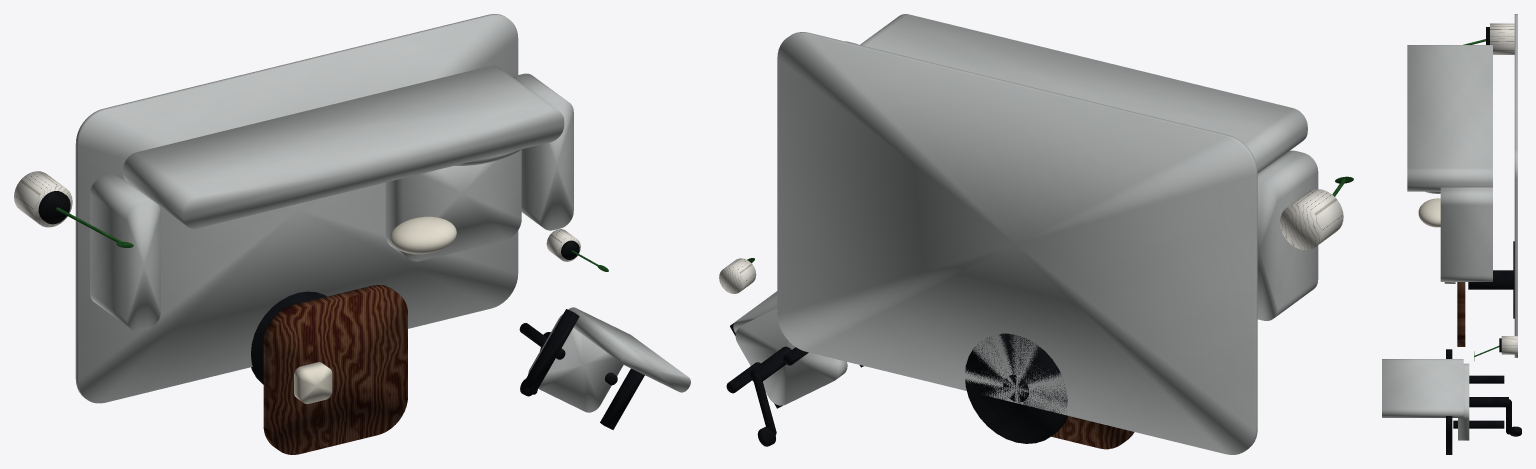
Rendered from HERO_LOUNGE_BLUE_AREA_V4_001.glb.
3 renders of one model, left to right at view 1: azimuth 30°, elevation 25°; view 2: azimuth 150°, elevation 25°; view 3: azimuth 270°, elevation 25°, orthographic. The views are drawn at different scales.
Parts seen in each view (by area): view 1: blue_rug, sofa_back, coffee_table_top, sofa_arm_l, sofa_seat, sofa_arm_r, round_lounge_chair_seat, round_lounge_chair_back, throw_pillow, lounge_plant_pot, round_lounge_chair_arm_l, cup_on_lounge_table (+3 smaller); view 2: blue_rug, sofa_back, sofa_arm_l, coffee_table_base, round_lounge_chair_seat, lounge_plant_pot, coffee_table_top, lounge_small_plant_pot; view 3: sofa_back, sofa_arm_r, round_lounge_chair_back, blue_rug, lounge_plant_pot, round_lounge_chair_seat, coffee_table_pedestal, coffee_table_top, throw_pillow, round_lounge_chair_center, round_lounge_chair_gas2, lounge_small_plant_pot (+3 smaller).
Part boxes in pixels (left/top/right/bottom): blue_rug: left=75, top=14, right=518, bottom=403; sofa_back: left=123, top=65, right=564, bottom=228; coffee_table_top: left=263, top=285, right=407, bottom=454; sofa_arm_l: left=90, top=174, right=160, bottom=331; sofa_seat: left=385, top=150, right=521, bottom=261; sofa_arm_r: left=513, top=73, right=573, bottom=230; round_lounge_chair_seat: left=528, top=314, right=623, bottom=412; round_lounge_chair_back: left=568, top=307, right=690, bottom=392; throw_pillow: left=390, top=216, right=456, bottom=254; lounge_plant_pot: left=14, top=171, right=72, bottom=227; round_lounge_chair_arm_l: left=522, top=309, right=579, bottom=392; cup_on_lounge_table: left=294, top=362, right=332, bottom=404; blue_rug: left=777, top=32, right=1257, bottom=454; sofa_back: left=860, top=14, right=1307, bottom=172; sofa_arm_l: left=1257, top=150, right=1318, bottom=320; coffee_table_base: left=965, top=333, right=1067, bottom=443; round_lounge_chair_seat: left=735, top=308, right=847, bottom=405; lounge_plant_pot: left=1280, top=189, right=1343, bottom=250; coffee_table_top: left=1051, top=416, right=1134, bottom=449; lounge_small_plant_pot: left=719, top=258, right=756, bottom=293; sofa_back: left=1407, top=45, right=1492, bottom=191; sofa_arm_r: left=1440, top=187, right=1492, bottom=281; round_lounge_chair_back: left=1382, top=359, right=1463, bottom=417; blue_rug: left=1514, top=14, right=1517, bottom=357; lounge_plant_pot: left=1490, top=23, right=1514, bottom=54; round_lounge_chair_seat: left=1458, top=363, right=1469, bottom=440; coffee_table_pedestal: left=1468, top=270, right=1513, bottom=289; coffee_table_top: left=1457, top=282, right=1465, bottom=346; throw_pillow: left=1418, top=198, right=1440, bottom=227; round_lounge_chair_center: left=1469, top=397, right=1508, bottom=407; round_lounge_chair_gas2: left=1453, top=420, right=1504, bottom=428; lounge_small_plant_pot: left=1501, top=336, right=1517, bottom=354.
Size of the model in its own units: 3.5 by 2.24 by 1.01.
7 materials, 7 textured.
